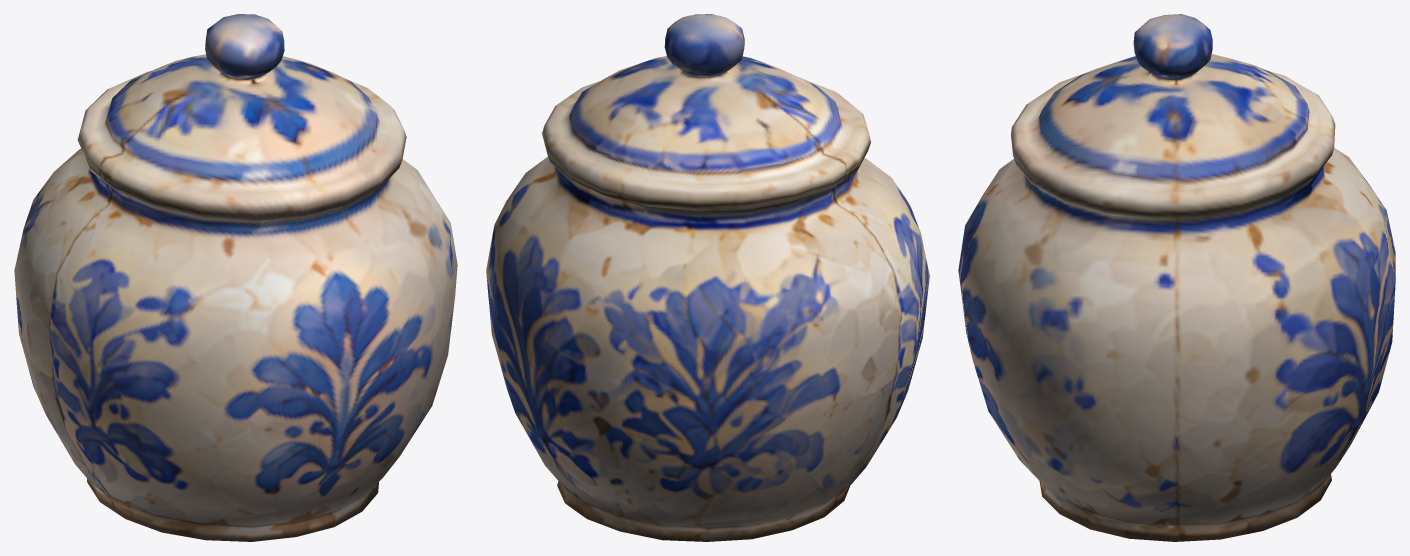
The model's file is porcelain_vase.fbx.
3 views of the same model, side by side, from view 1: azimuth 30°, elevation 25°; view 2: azimuth 150°, elevation 25°; view 3: azimuth 270°, elevation 25° (orthographic).
Visible parts, largest first — view 1: porcelain_vase; view 2: porcelain_vase; view 3: porcelain_vase.
Boxes of the visible parts, <box> form: porcelain_vase: <box>14,14,457,541</box>; porcelain_vase: <box>486,14,929,541</box>; porcelain_vase: <box>958,14,1395,541</box>.
Size of the model in its own units: 19.34 by 22.51 by 19.14.
Materials: 1 (1 with a texture image).
